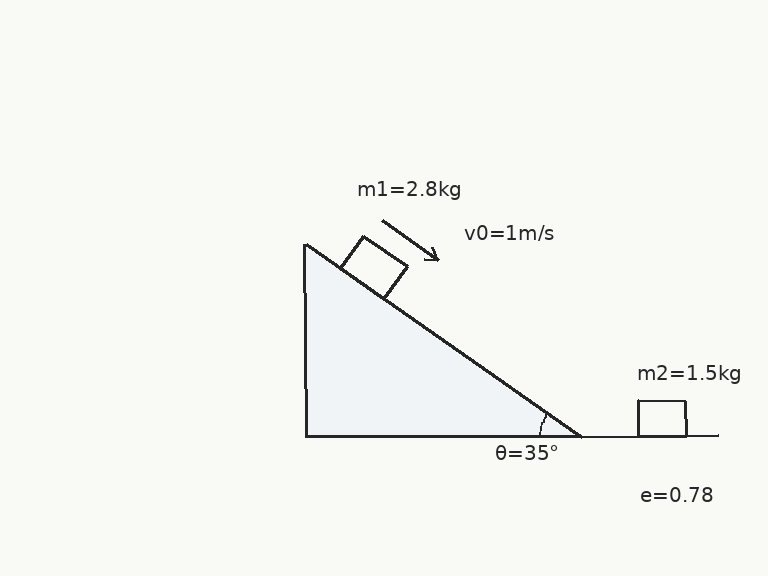block: (338, 234, 409, 301), (636, 398, 688, 438)
ramp: (304, 242, 582, 438)
